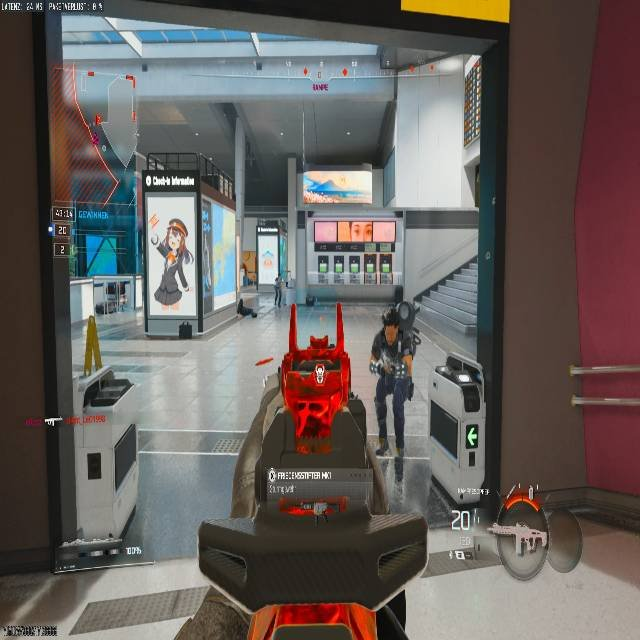head: (381, 307, 401, 341), (306, 333, 329, 352), (389, 287, 406, 306)
player: (279, 330, 354, 440), (369, 305, 418, 462), (153, 217, 190, 310), (272, 273, 286, 306)
